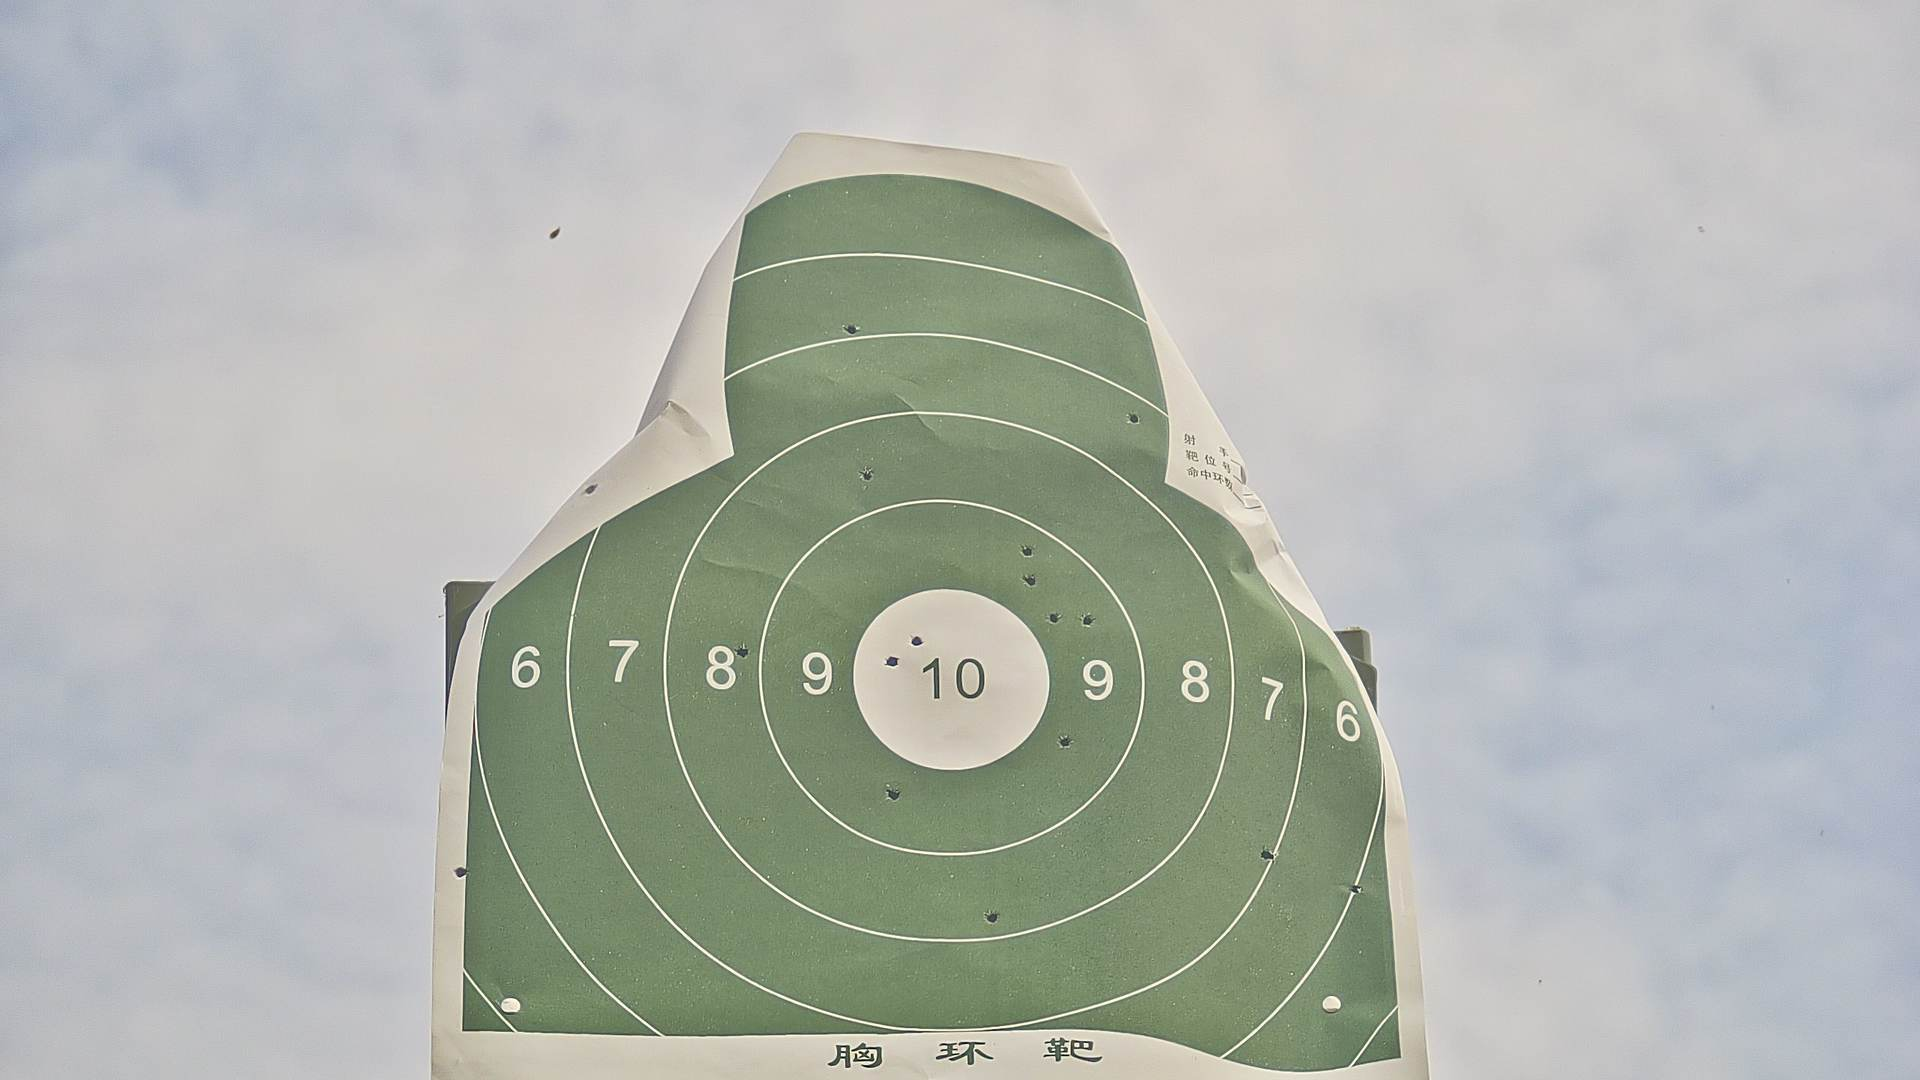hole: (1346, 880, 1364, 897), (886, 786, 901, 803), (582, 483, 600, 496), (985, 909, 1000, 924), (454, 866, 471, 880), (1023, 572, 1036, 587), (1058, 735, 1072, 748), (861, 467, 873, 483), (735, 646, 752, 657), (886, 655, 899, 669), (843, 322, 857, 334), (1127, 413, 1139, 426), (1022, 543, 1034, 556), (1081, 615, 1095, 626), (1047, 611, 1059, 622), (1261, 848, 1274, 858), (913, 637, 923, 647)
kernel: (944, 679, 949, 680)
target: (455, 174, 1406, 1069)
ten: (848, 587, 1050, 769)
